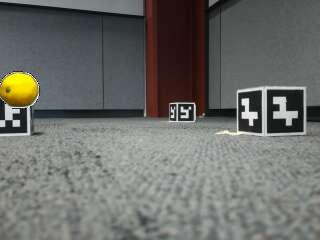lemon: (1, 73, 39, 106)
